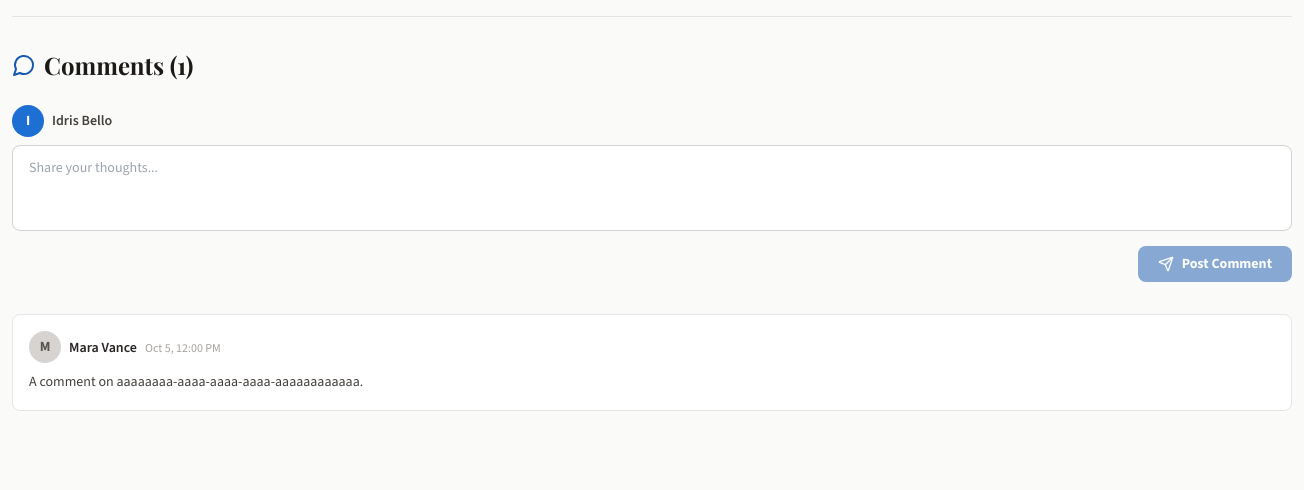
a write error that settles after the reader has navigated (BEL-189) › still shows a failed comment post on the story it was made on
Type "A reply." into the text box with placeholder "Share your thoughts..." at (652, 188), box [12, 145, 1292, 231]
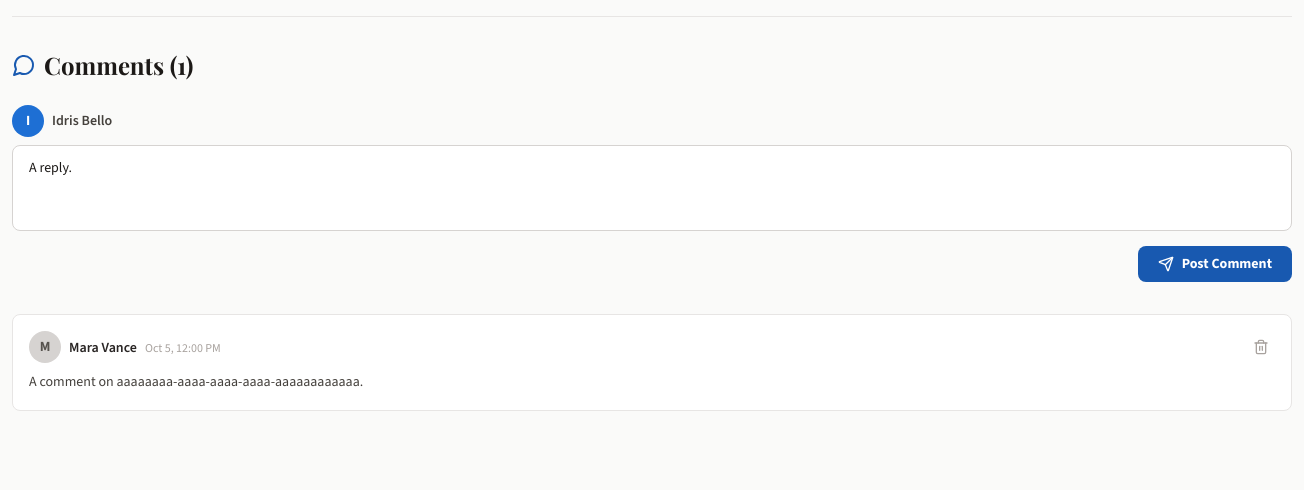
Click the button "Post Comment" at (1215, 264), box [1138, 246, 1292, 282]
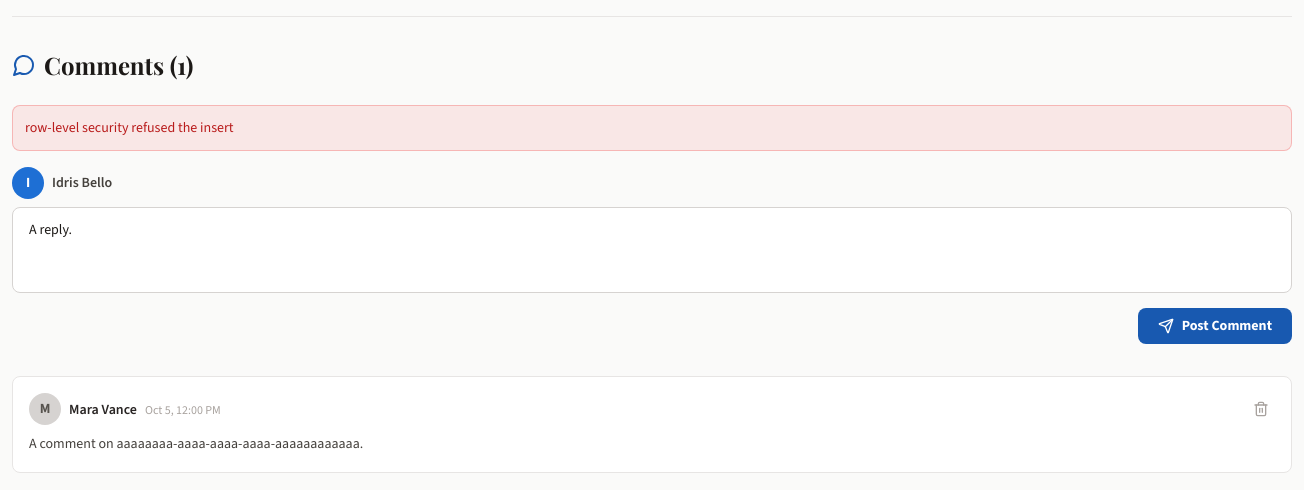
Now the text "row-level security refused the insert" is shown, box [12, 105, 1292, 151]
